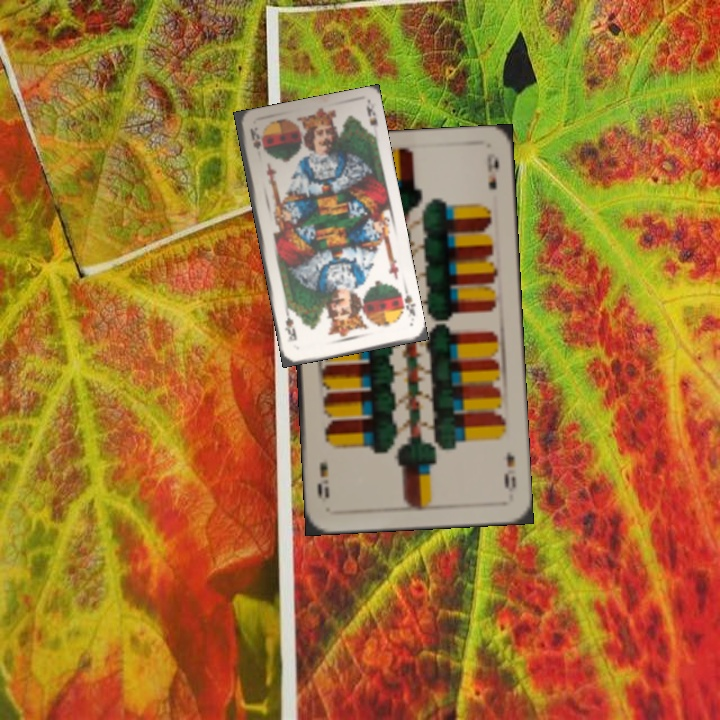E9: (500, 448, 518, 491)
SK: (394, 286, 418, 319), (246, 123, 263, 152)
